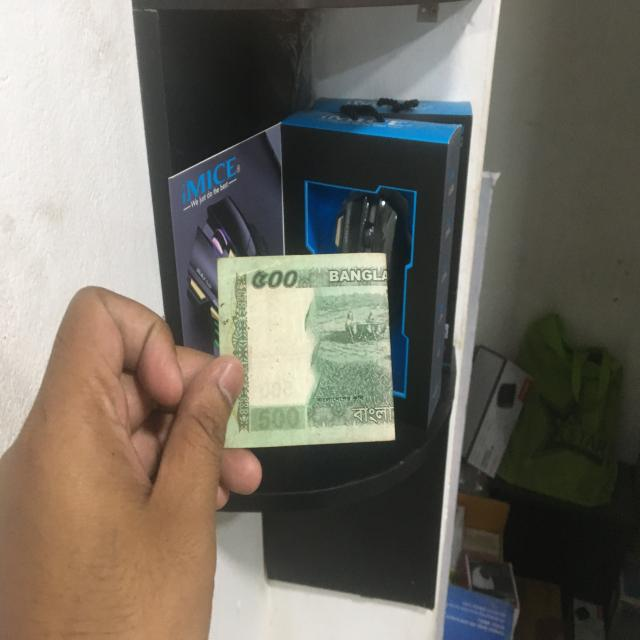Taka: (222, 254, 390, 442)
